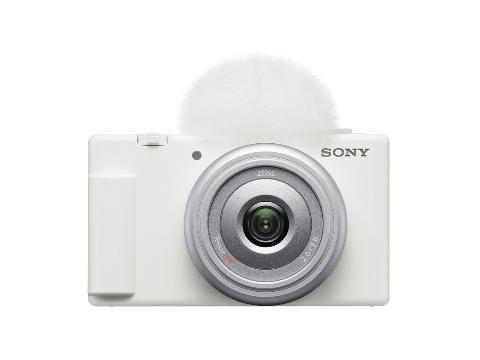degital-camera: (83, 121, 390, 313)
